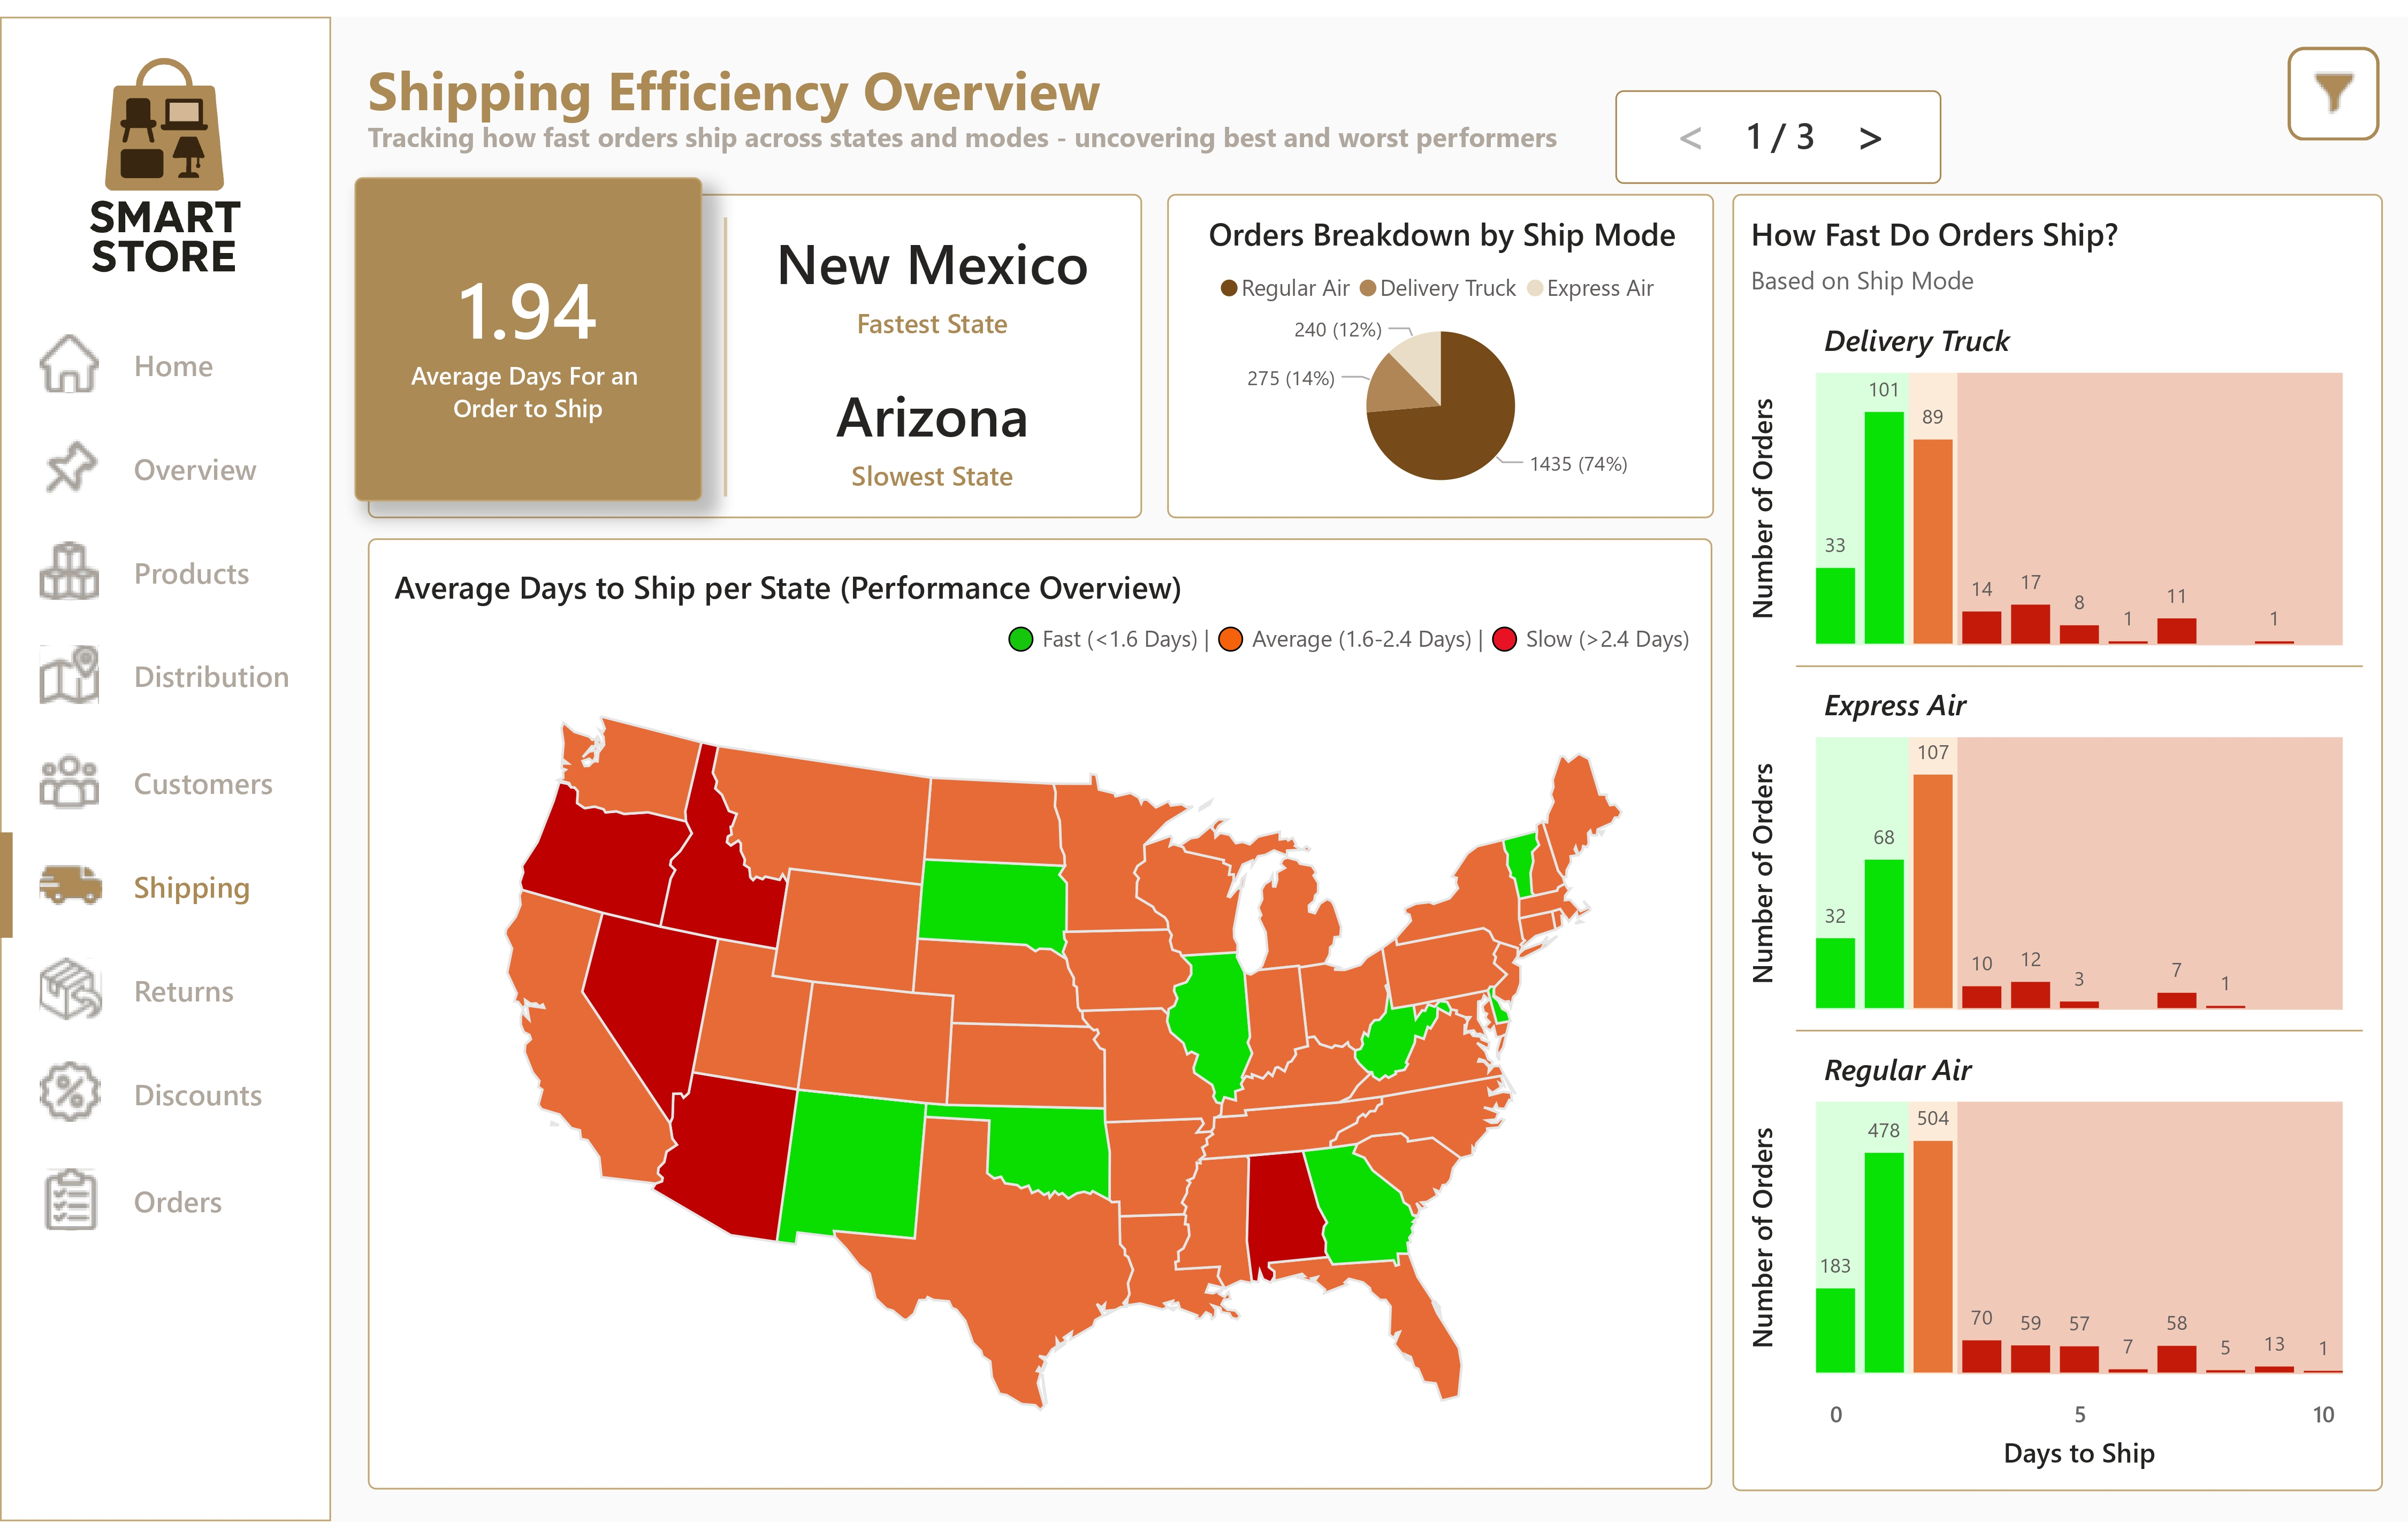

The page's visual inventory and layout, read from the dashboard file:
{"tool":"powerbi","page":{"name":"Shipping","canvas":[1440,900],"ordinal":5},"visuals":[{"type":"shape","box":[0,0,197.5,900],"z":0},{"type":"textbox","box":[220,55,740,35],"z":0,"group":"g1"},{"type":"clusteredColumnChart","title":"How Fast Do Orders Ship?","fields":{"Y":["CountNonNull(OrderItems.order_id)"],"Rows":["OrderItems.ship_mode"],"Category":["OrderItems.days_until_shipment (bins)"]},"box":[1034.2,105.7,388.6,775.7],"z":0,"group":"g3"},{"type":"shape","box":[220,105.8,462.9,194.3],"z":0,"group":"g4"},{"type":"textbox","box":[220,15,717.5,61.2],"z":1000,"group":"g1"},{"type":"actionButton","title":"Previous","box":[985.7,43.6,50,55.7],"z":1000,"group":"g2"},{"type":"card","fields":{"Values":["OrderItems.avg_days_until_shipment"]},"box":[212.9,95.4,207.5,193.8],"z":1000,"group":"g4"},{"type":"actionButton","box":[0,175,197.5,62.5],"z":1000},{"type":"group","id":"g1","title":"Title","box":[220,15,740,75],"z":2000},{"type":"shape","title":"Num Page","box":[1035.7,43.6,58.6,55.7],"z":2000,"group":"g2"},{"type":"card","fields":{"Values":["Min(Locations.state_or_province)"]},"box":[435.8,105.8,247.1,97.1],"z":2000,"group":"g4"},{"type":"pieChart","title":"Orders Breakdown by Ship Mode","fields":{"Y":["CountNonNull(OrderItems.ship_mode)"],"Category":["OrderItems.ship_mode"]},"box":[697.1,105.7,327.1,194.3],"z":3000,"group":"g3"},{"type":"card","fields":{"Values":["Min(Locations.state_or_province)"]},"box":[435.8,202.9,247.1,97.1],"z":3000,"group":"g4"},{"type":"actionButton","box":[0,487.5,196,62.5],"z":3000},{"type":"actionButton","title":"Next","box":[1094.3,43.6,50,55.7],"z":4000,"group":"g2"},{"type":"shape","title":"Paging Panel","box":[965,43.8,195,56.2],"z":4000},{"type":"shape","box":[427.2,120,15.7,167.1],"z":4000,"group":"g4"},{"type":"actionButton","box":[0,237.5,197.5,62.5],"z":5000},{"type":"actionButton","title":"Filter","box":[1368,17,55,56.2],"z":6000},{"type":"actionButton","box":[0,362.5,197.5,62.5],"z":7000},{"type":"shapeMap","title":"Average Days to Ship per State (Performance Overview)","fields":{"Category":["Locations.state_or_province"]},"box":[220,312.9,804.3,568.6],"z":8000},{"type":"actionButton","box":[0,425,197.5,62.5],"z":9000},{"type":"group","id":"g2","title":"Page","box":[985.7,43.6,158.8,56.2],"z":9001,"group":"g3"},{"type":"group","id":"g3","title":"Chart 1","box":[697.1,43.6,725.7,837.9],"z":10000},{"type":"actionButton","box":[0,550,197.1,62.9],"z":13000},{"type":"actionButton","box":[0,300,197.5,62.5],"z":15000},{"type":"group","id":"g4","title":"Cards","box":[212.9,95.4,470,204.6],"z":16000},{"type":"actionButton","box":[0,675,197.5,62.5],"z":18000},{"type":"actionButton","box":[0,612.5,197.5,62.5],"z":19000},{"type":"image","box":[22.5,13.8,152.5,152.5],"z":19250}]}

Visuals, with their boxes on the page's 1440x900 design canvas (x1, y1, x2, y2). These are canvas units, not pixel positions in the 2408x1538 screenshot, which may show the page scaled, cropped or inside an application window:
shape: box(0, 0, 198, 900)
textbox: box(220, 55, 960, 90)
"How Fast Do Orders Ship?" clusteredColumnChart: box(1034, 106, 1423, 881)
shape: box(220, 106, 683, 300)
textbox: box(220, 15, 938, 76)
"Previous" actionButton: box(986, 44, 1036, 99)
card - OrderItems.avg_days_until_shipment: box(213, 95, 420, 289)
actionButton: box(0, 175, 198, 238)
"Title" group: box(220, 15, 960, 90)
"Num Page" shape: box(1036, 44, 1094, 99)
card - Min(Locations.state_or_province): box(436, 106, 683, 203)
"Orders Breakdown by Ship Mode" pieChart: box(697, 106, 1024, 300)
card - Min(Locations.state_or_province): box(436, 203, 683, 300)
actionButton: box(0, 488, 196, 550)
"Next" actionButton: box(1094, 44, 1144, 99)
"Paging Panel" shape: box(965, 44, 1160, 100)
shape: box(427, 120, 443, 287)
actionButton: box(0, 238, 198, 300)
"Filter" actionButton: box(1368, 17, 1423, 73)
actionButton: box(0, 362, 198, 425)
"Average Days to Ship per State (Performance Overview)" shapeMap: box(220, 313, 1024, 882)
actionButton: box(0, 425, 198, 488)
"Page" group: box(986, 44, 1144, 100)
"Chart 1" group: box(697, 44, 1423, 882)
actionButton: box(0, 550, 197, 613)
actionButton: box(0, 300, 198, 362)
"Cards" group: box(213, 95, 683, 300)
actionButton: box(0, 675, 198, 738)
actionButton: box(0, 612, 198, 675)
image: box(22, 14, 175, 166)
